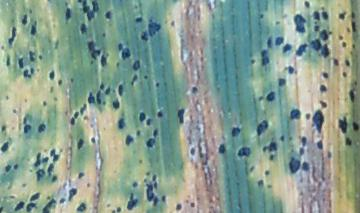tarspot: (78, 1, 99, 20), (312, 110, 324, 133), (148, 18, 162, 37), (255, 118, 269, 137), (87, 41, 100, 61), (293, 14, 306, 33), (288, 156, 301, 174), (309, 36, 322, 52), (42, 199, 56, 213), (337, 115, 348, 132), (127, 192, 137, 210), (261, 47, 270, 67), (49, 148, 60, 162), (8, 27, 16, 46), (321, 42, 330, 58), (319, 29, 331, 41), (35, 168, 46, 181), (296, 43, 307, 56), (146, 181, 153, 201), (273, 35, 284, 47), (267, 140, 278, 152), (76, 201, 87, 213), (238, 146, 251, 156), (87, 91, 96, 105), (282, 43, 293, 54), (290, 109, 301, 120), (26, 201, 37, 212), (14, 201, 25, 212), (231, 126, 241, 138), (300, 160, 310, 172), (140, 29, 149, 42), (68, 187, 77, 200), (266, 91, 276, 102), (177, 109, 184, 124), (34, 153, 41, 168), (348, 87, 355, 102), (79, 21, 87, 34), (122, 48, 130, 61), (76, 138, 84, 151), (146, 138, 155, 149), (277, 77, 286, 88), (312, 10, 321, 21), (337, 11, 348, 20), (217, 143, 226, 154), (30, 23, 37, 37), (133, 59, 141, 71), (112, 98, 120, 110), (100, 54, 107, 67), (65, 7, 71, 22), (30, 192, 40, 201), (344, 136, 353, 146), (321, 10, 329, 21), (316, 139, 324, 150), (29, 50, 36, 62), (131, 74, 138, 86), (118, 82, 124, 96), (80, 104, 87, 116), (47, 162, 54, 174), (350, 21, 357, 33), (23, 124, 32, 133), (40, 154, 49, 163), (319, 99, 328, 108), (38, 123, 46, 133), (1, 142, 9, 152), (96, 91, 102, 104), (18, 57, 25, 68), (320, 82, 327, 93), (189, 145, 196, 156), (6, 54, 12, 66), (78, 171, 86, 180), (267, 36, 273, 48), (303, 1, 311, 10), (312, 24, 321, 32), (287, 65, 295, 74), (352, 122, 360, 131), (262, 168, 271, 176), (105, 11, 112, 21), (118, 42, 125, 52), (127, 135, 134, 145), (341, 69, 348, 79), (298, 146, 305, 156), (22, 14, 28, 25), (118, 118, 124, 129), (153, 196, 159, 207), (4, 164, 12, 172), (139, 112, 146, 121), (192, 85, 199, 94), (344, 58, 351, 67), (23, 68, 29, 78), (49, 70, 55, 80), (161, 194, 167, 204), (327, 150, 333, 160), (135, 17, 143, 24), (48, 85, 55, 93), (279, 134, 286, 142), (322, 71, 329, 79), (304, 113, 312, 120), (146, 117, 152, 126), (1, 124, 7, 133), (350, 11, 356, 20), (334, 57, 340, 66), (175, 204, 184, 210), (301, 137, 307, 146), (249, 164, 255, 173), (257, 178, 263, 187), (7, 193, 16, 199), (11, 107, 18, 114), (29, 66, 35, 74), (105, 87, 111, 95), (156, 110, 162, 118), (51, 174, 57, 182), (269, 152, 274, 161), (41, 100, 48, 106), (23, 97, 29, 104), (132, 180, 138, 187), (275, 19, 281, 26), (258, 95, 264, 102), (351, 43, 357, 50), (190, 201, 196, 208), (266, 183, 273, 189), (45, 195, 52, 201), (74, 111, 79, 119), (136, 128, 141, 136), (153, 128, 158, 136), (171, 19, 176, 27), (20, 182, 28, 187), (263, 143, 268, 151), (71, 116, 75, 125), (13, 164, 19, 170), (115, 62, 121, 68), (85, 182, 91, 188), (138, 159, 144, 165), (338, 35, 344, 41), (116, 207, 122, 213), (58, 79, 63, 86), (100, 83, 105, 90), (91, 136, 96, 143), (23, 117, 28, 124), (153, 174, 158, 181), (346, 26, 351, 33), (154, 182, 158, 190), (101, 32, 107, 37), (70, 77, 75, 83), (5, 95, 10, 101), (53, 96, 58, 102), (61, 198, 66, 204), (260, 13, 265, 19), (341, 41, 346, 47), (30, 8, 34, 15), (1, 45, 6, 50), (144, 74, 149, 79), (146, 171, 151, 176), (83, 116, 88, 121), (156, 81, 160, 87), (251, 59, 255, 65), (354, 80, 358, 86), (111, 209, 117, 213), (107, 202, 111, 208), (1, 206, 4, 213), (39, 56, 43, 60)
